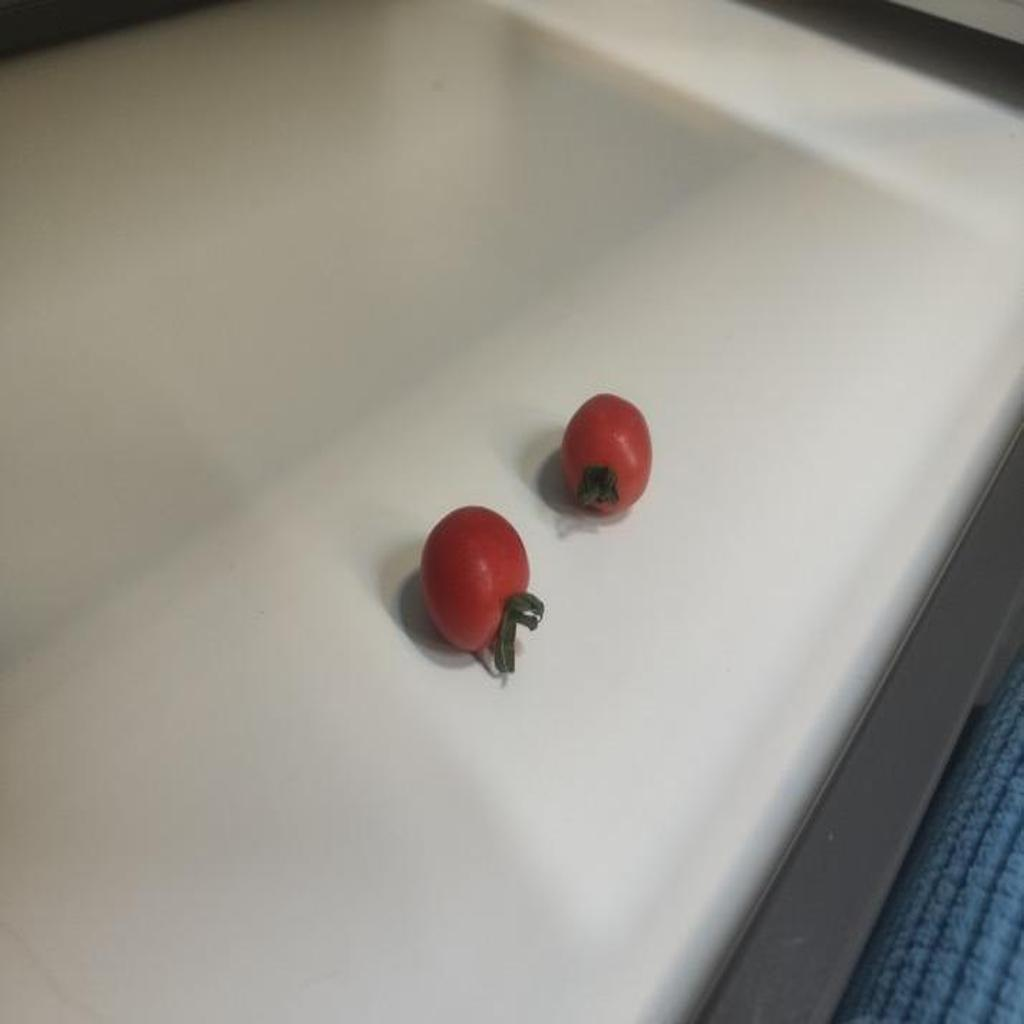tomato: (407, 508, 556, 652), (560, 386, 660, 518)
